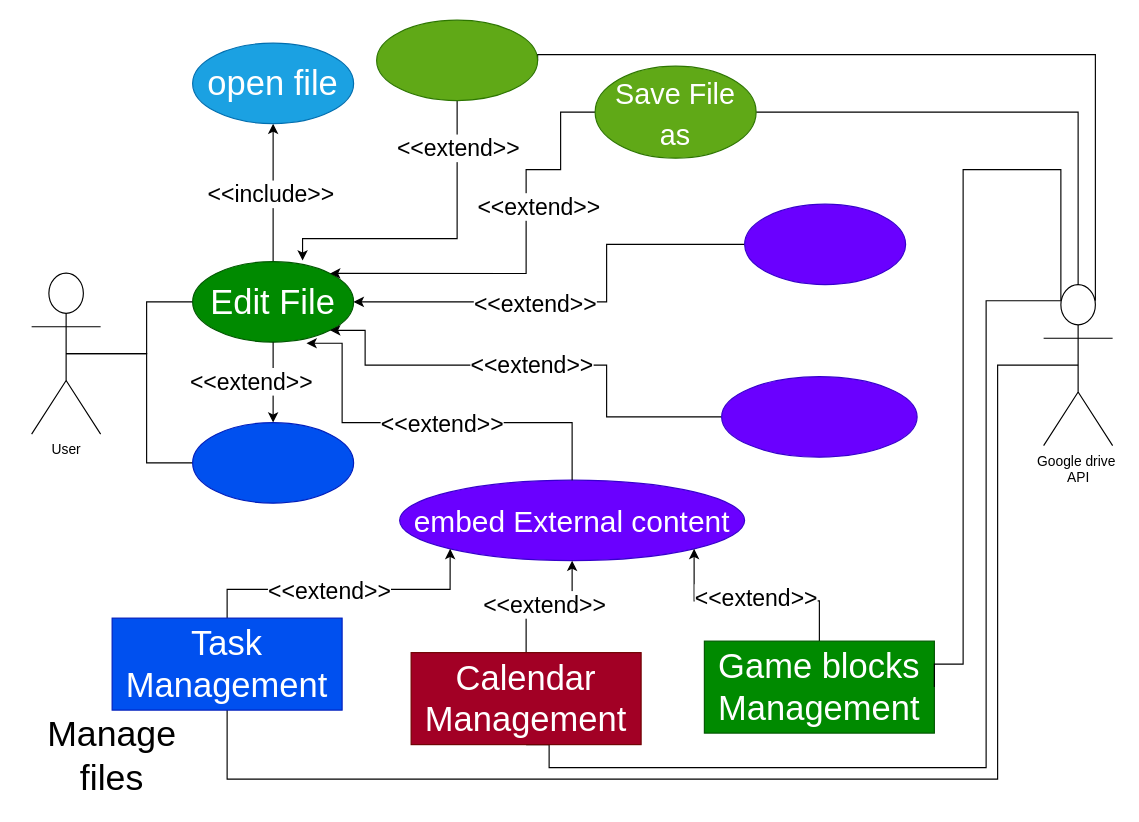
This 1139x822 diagram has some shape labels left out. The shapes that lost their labels are listed below. From the top down, each one's box as (x1, y1, x2, y2) in pixels, then its label:
(375, 19, 538, 101): Save File
(743, 203, 906, 285): upload
(720, 375, 917, 457): Add canvas
(191, 421, 354, 503): Create File
